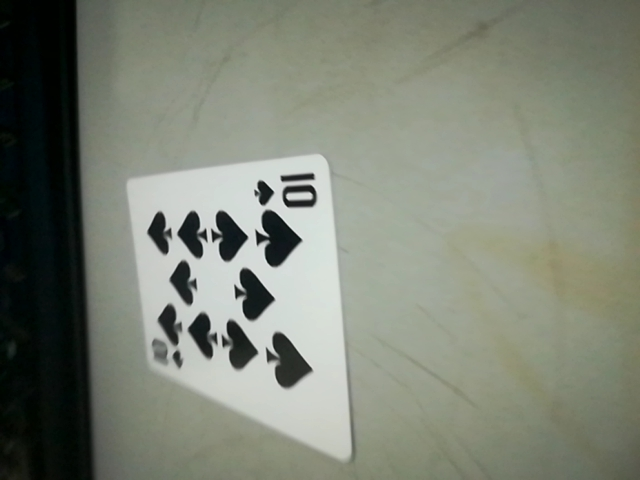ht 10: (250, 164, 320, 212)
